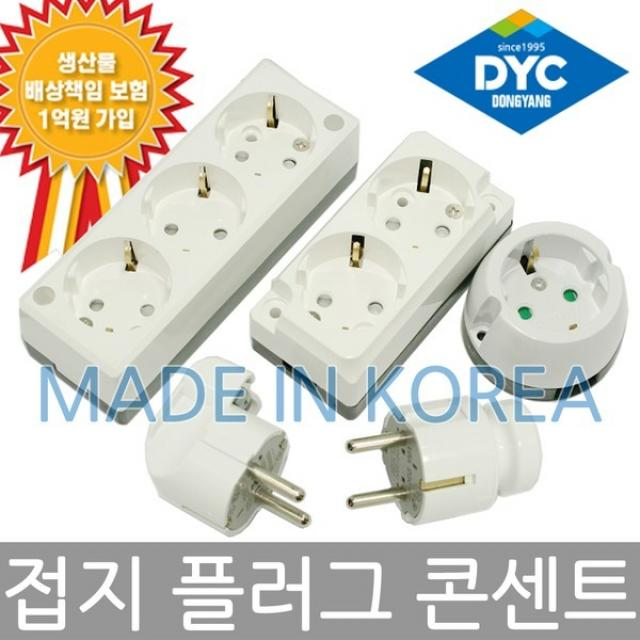typeb: (253, 116, 541, 420), (251, 15, 359, 52)
